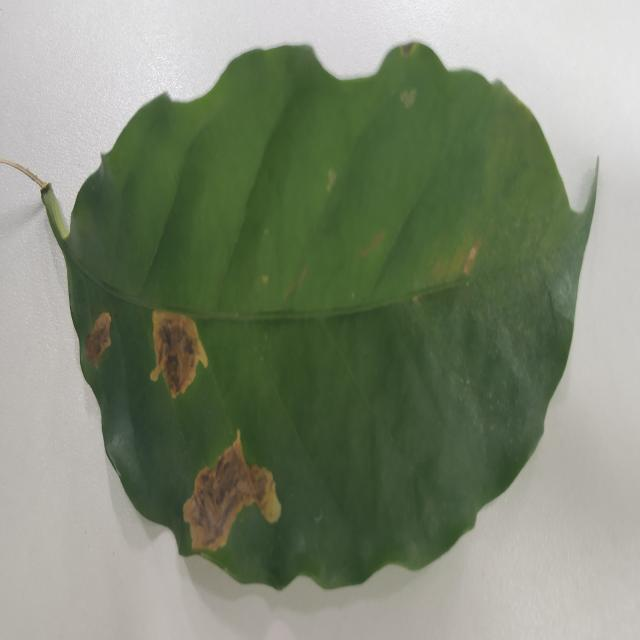Plaga-Minador: (42, 43, 595, 593)
